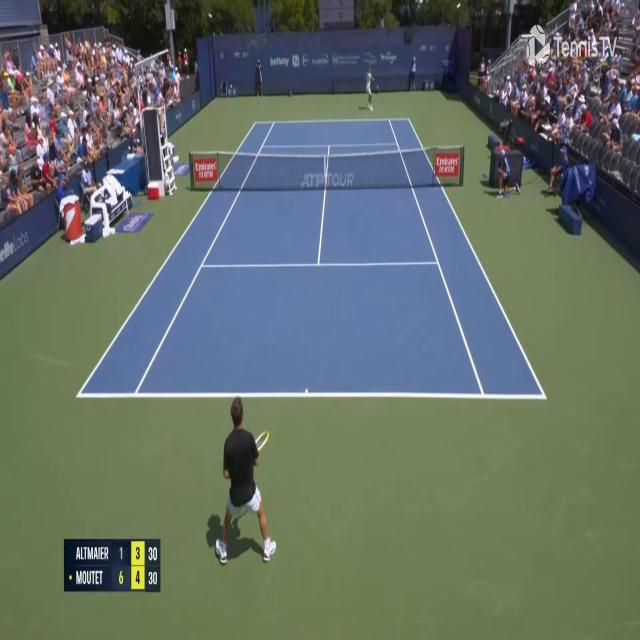tennis-player: (205, 394, 279, 571), (364, 67, 376, 111)
